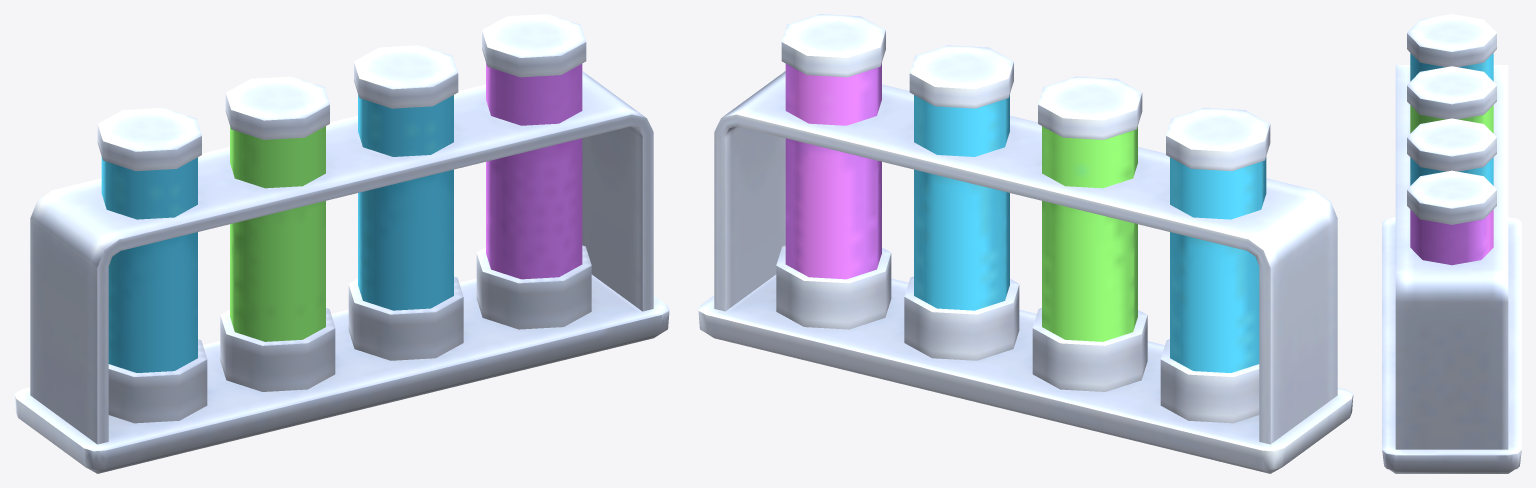
File: obj_chemical.gltf
3 renders of one model, left to right at view 1: azimuth 30°, elevation 25°; view 2: azimuth 150°, elevation 25°; view 3: azimuth 270°, elevation 25°, orthographic. The views are drawn at different scales.
Parts seen in each view (by area): view 1: obj_chemical; view 2: obj_chemical; view 3: obj_chemical.
Part boxes in pixels (x1=…): obj_chemical: x1=14, y1=14, x2=669, y2=473; obj_chemical: x1=698, y1=14, x2=1353, y2=473; obj_chemical: x1=1382, y1=14, x2=1521, y2=473.
Size of what is drawn, in the model's own units: 0.5221 by 0.2549 by 0.1296.
Materials: 1 (1 with a texture image).
